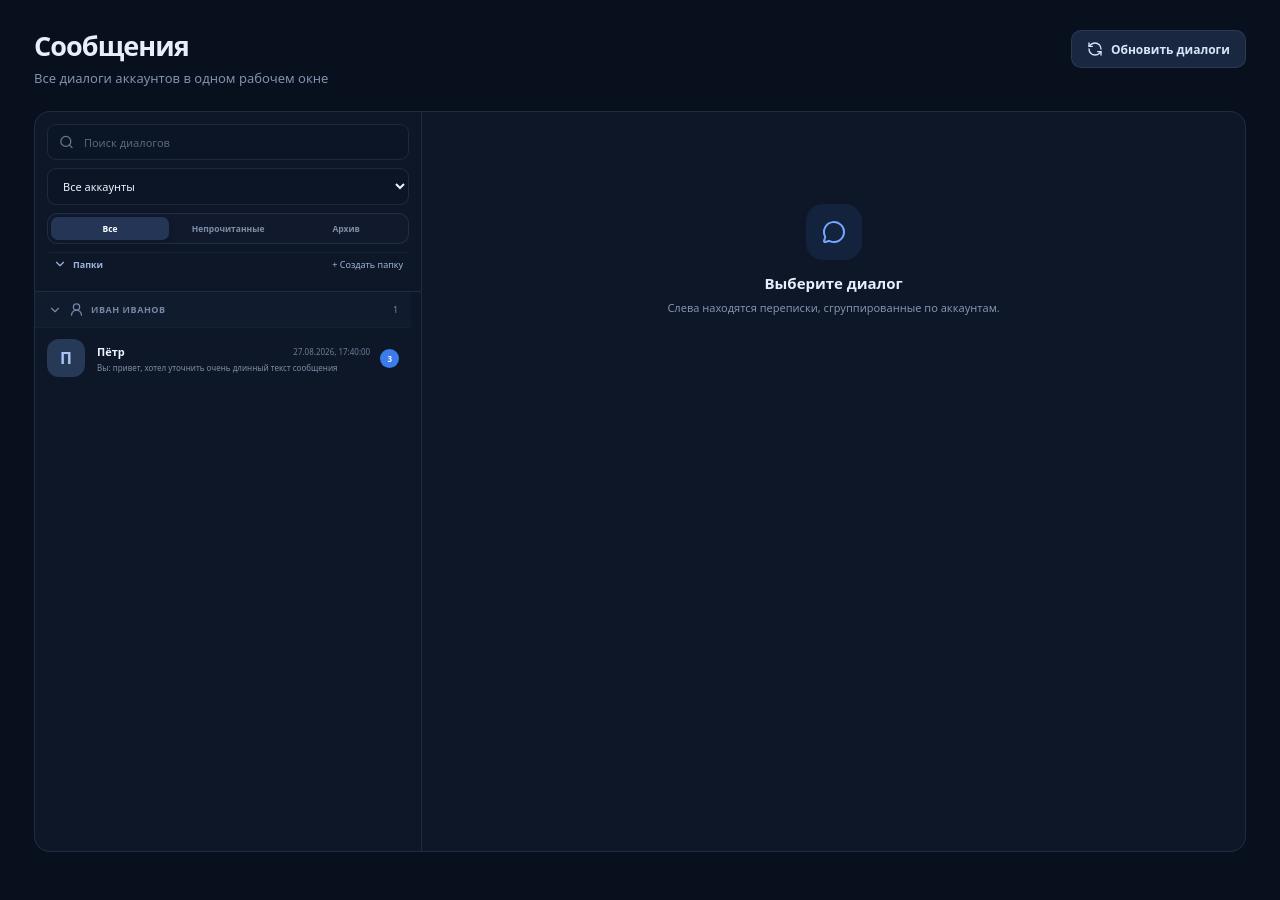
Test: InboxPage v0.4.9 › archives by context menu and archive view has no unread badge
Right-click the button "Пётр": coordinates (66, 358) [35,327,411,388]
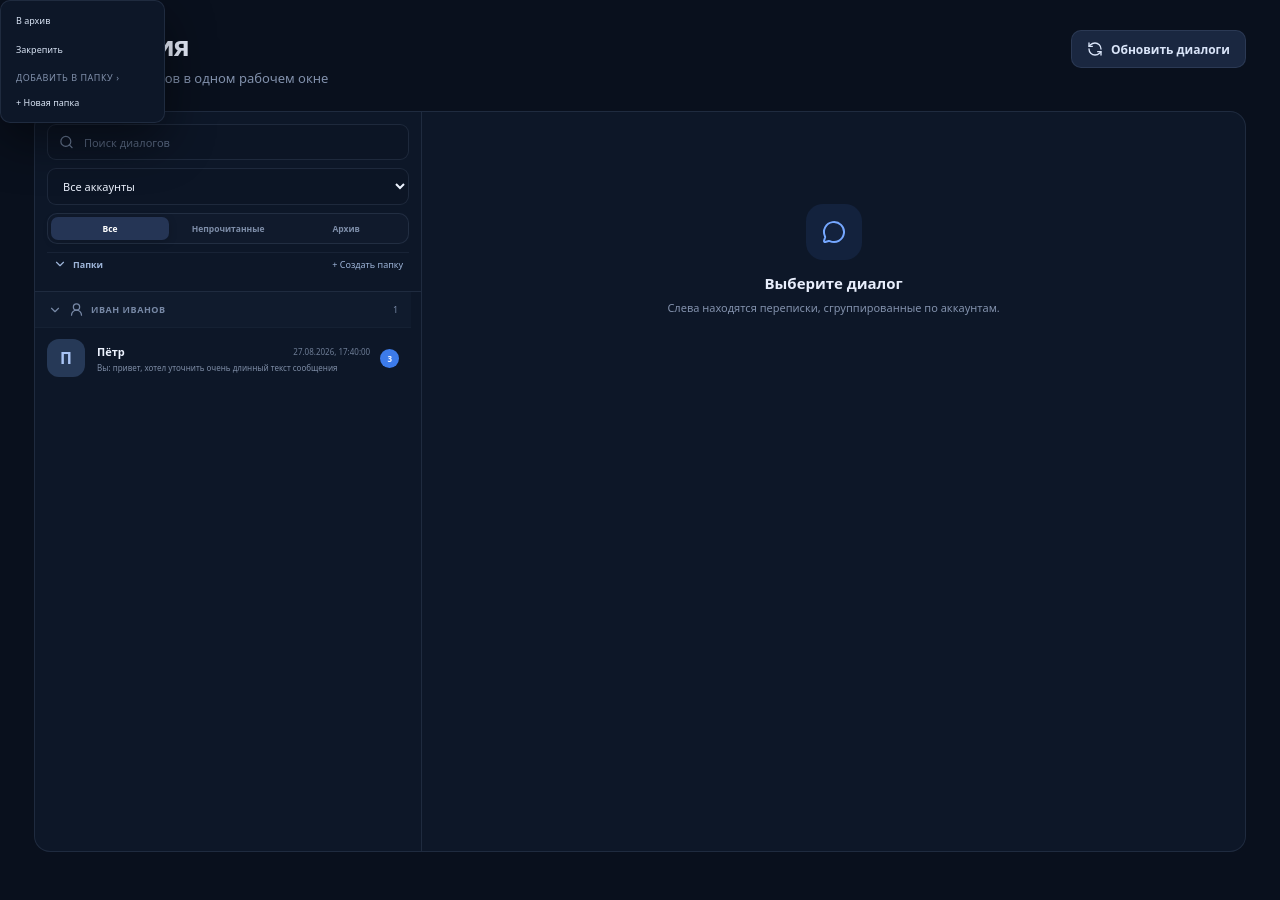
Click the button "В архив": coordinates (82, 20) [6,6,159,35]
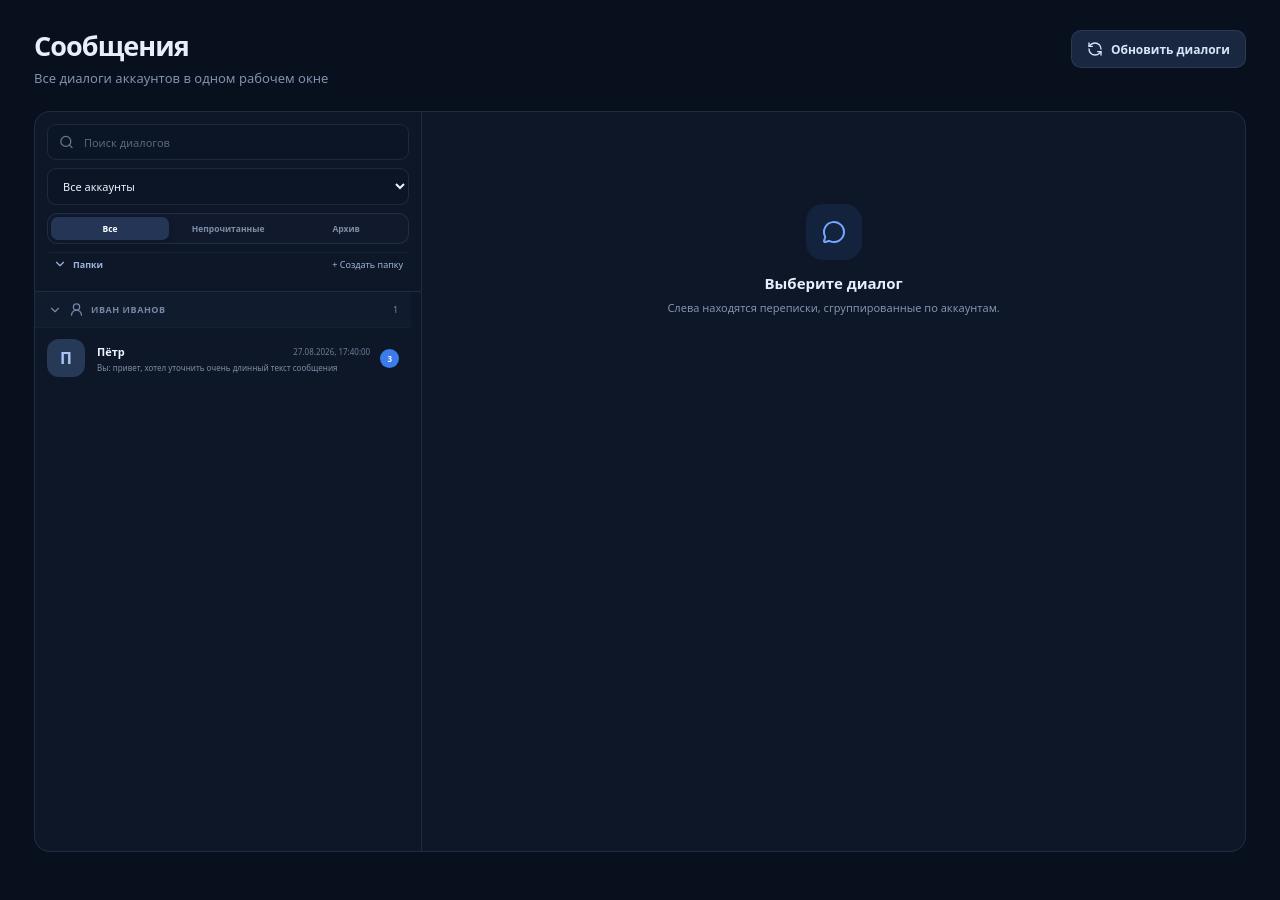
Click the button "Архив": coordinates (346, 229) [287,217,405,240]
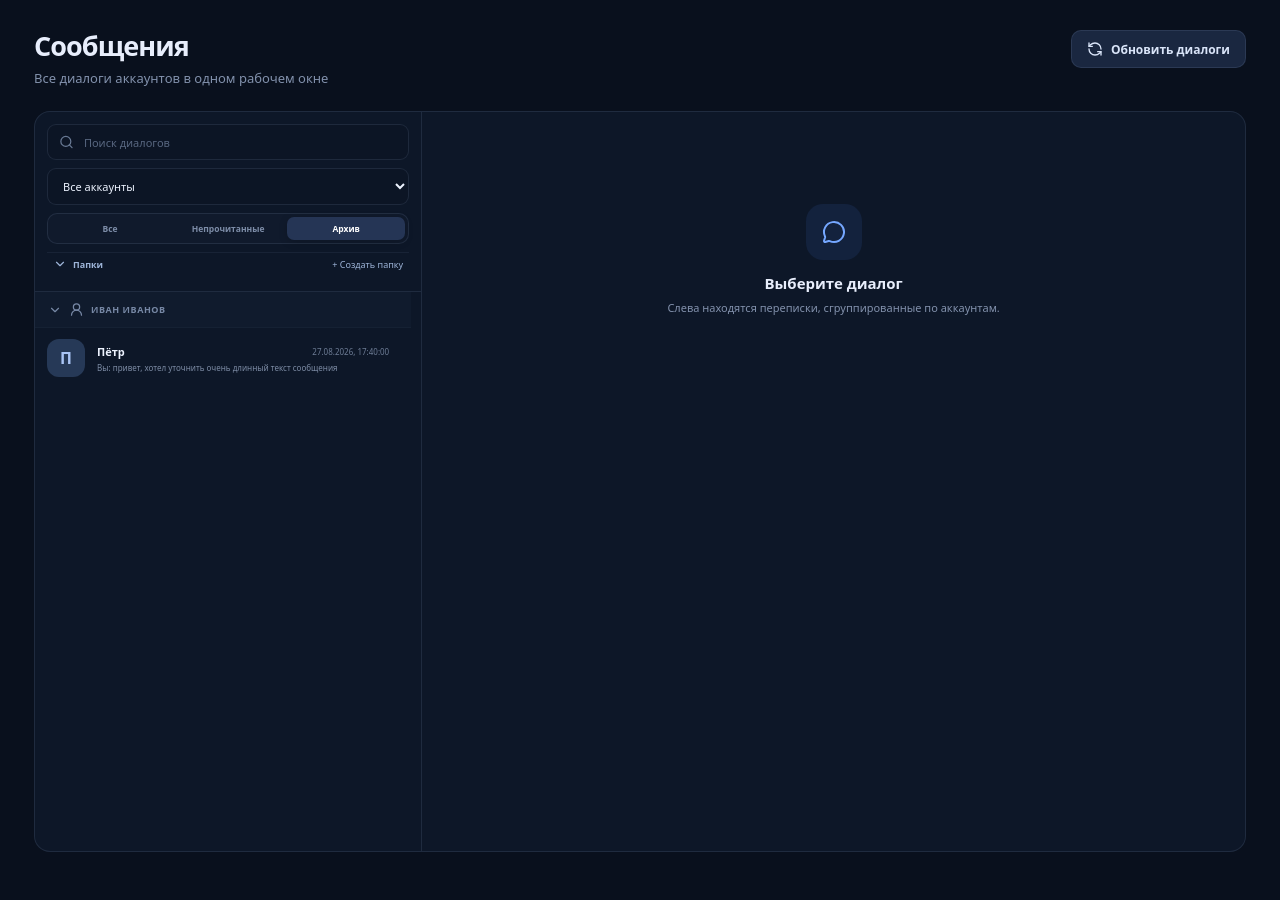
Check: the text with class "dialog-unread" is gone
Right-click the button "Пётр": coordinates (66, 358) [35,327,411,388]
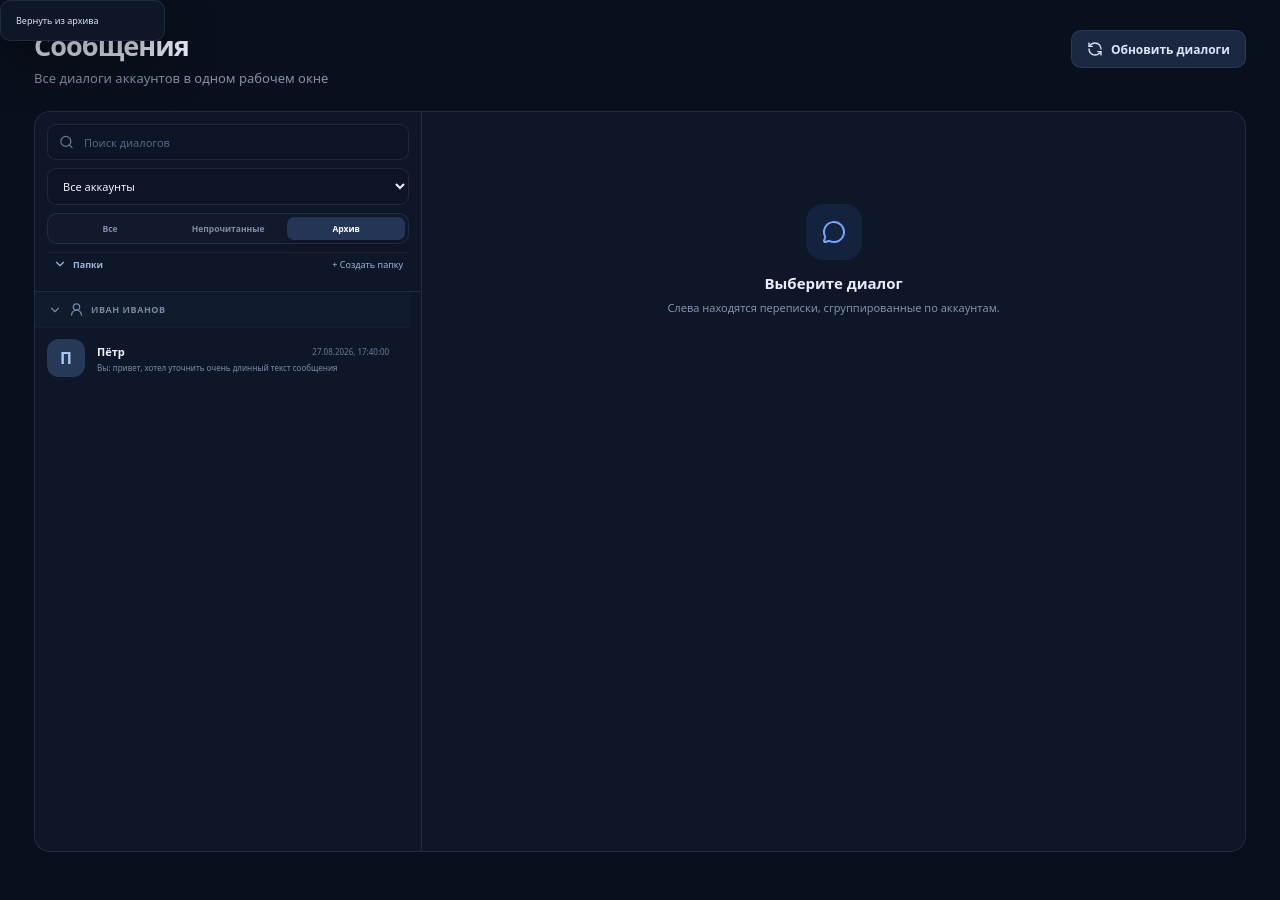
Check: the button "Вернуть из архива" is shown, box [6,6,159,35]
